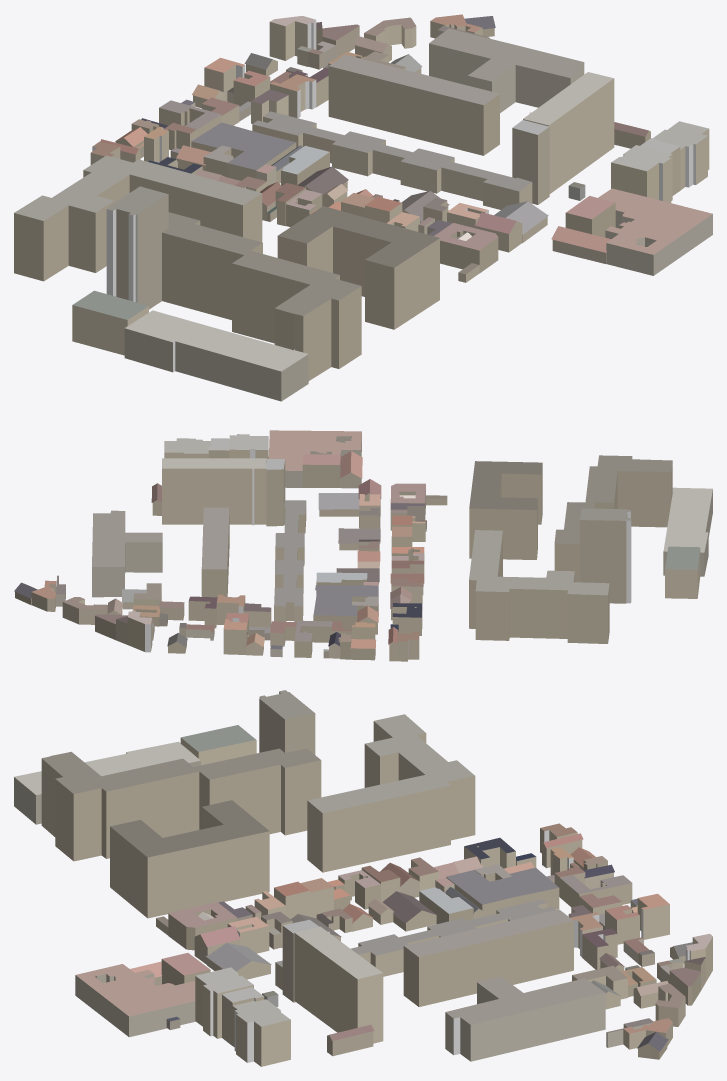
The picture shows the model from 3 angles, top to bottom: view 1: azimuth 30°, elevation 25°; view 2: azimuth 150°, elevation 25°; view 3: azimuth 270°, elevation 25°; orthographic projection. The views are drawn at different scales.
Visible parts, largest first — view 1: tuile; view 2: tuile; view 3: tuile.
Part boxes in pixels (box(x1,y1,x2,y2)): tuile: box(14, 14, 712, 401); tuile: box(14, 430, 712, 661); tuile: box(14, 690, 712, 1066).
Size of the model in its own units: 266 by 40.7 by 252.
